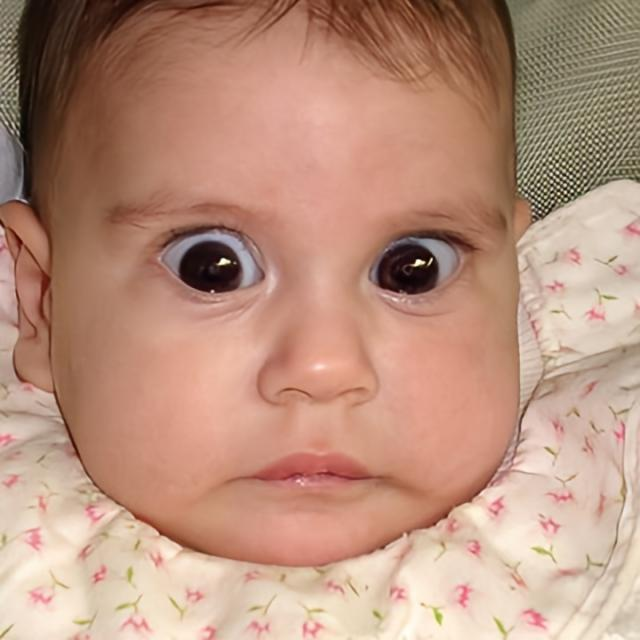fear: (53, 0, 519, 567)
